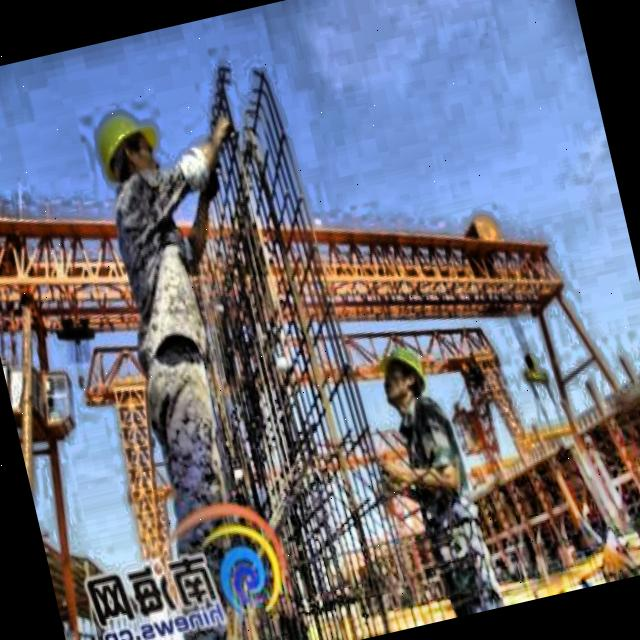helmet: (84, 100, 167, 196), (369, 333, 436, 418)
